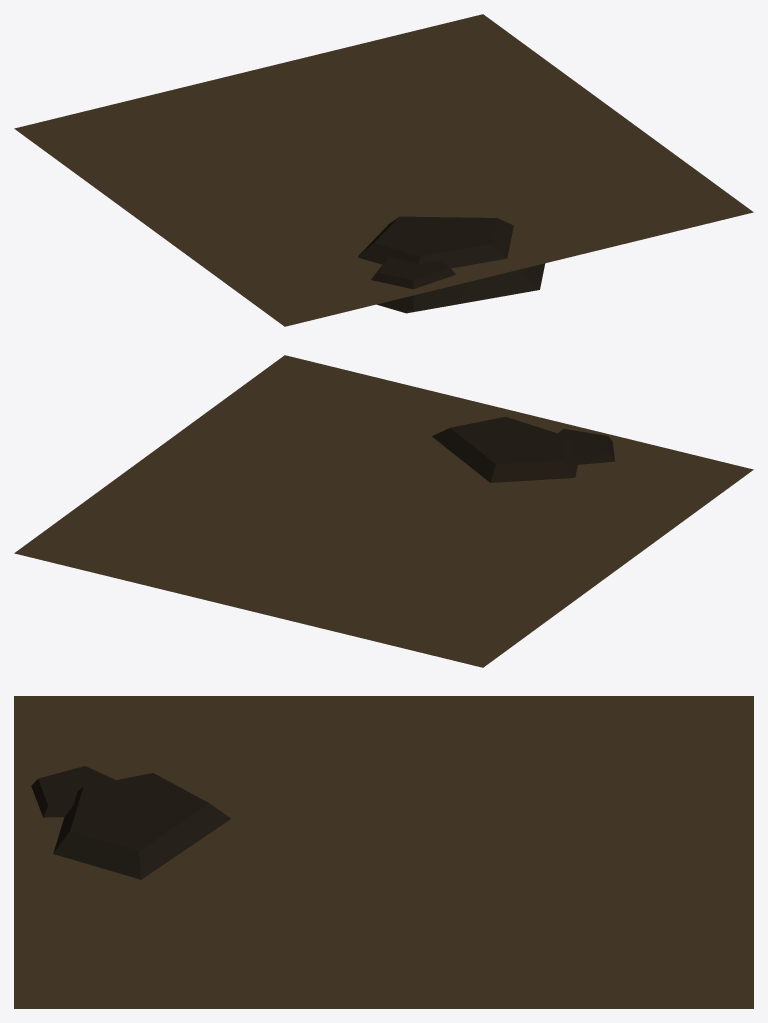
File: Floor.005.fbx
The picture shows the model from 3 angles, top to bottom: view 1: azimuth 30°, elevation 25°; view 2: azimuth 150°, elevation 25°; view 3: azimuth 270°, elevation 25°; orthographic projection. The views are drawn at different scales.
Visible parts, largest first — view 1: Floor.005; view 2: Floor.005; view 3: Floor.005.
Boxes of the visible parts, x1,y1,x2,y2 form: Floor.005: (14,14,753,326); Floor.005: (14,355,753,667); Floor.005: (14,696,753,1008).
Size of the model in its own units: 100 by 7.9 by 100.
